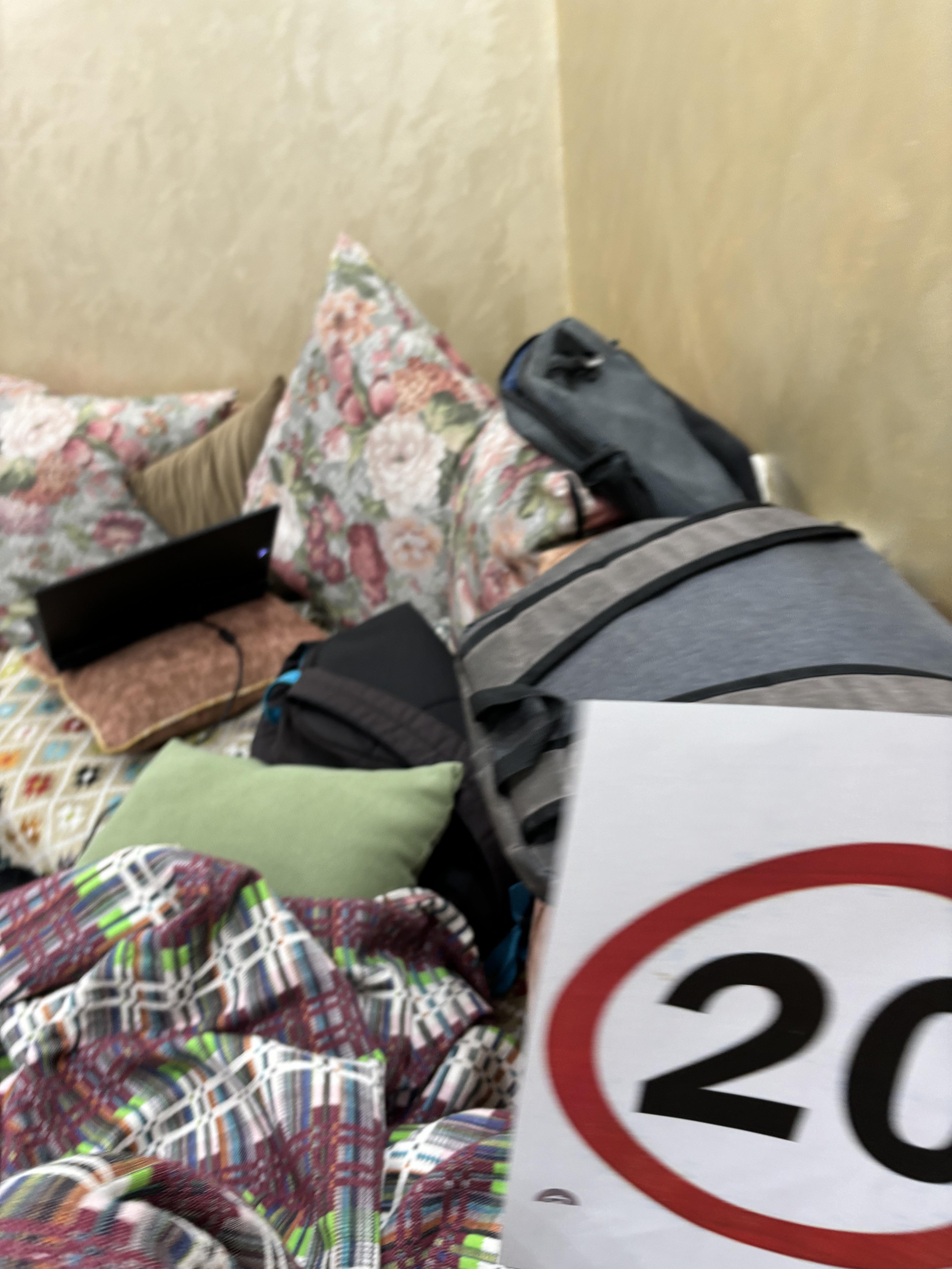20-Speed: (539, 825, 952, 1269)
